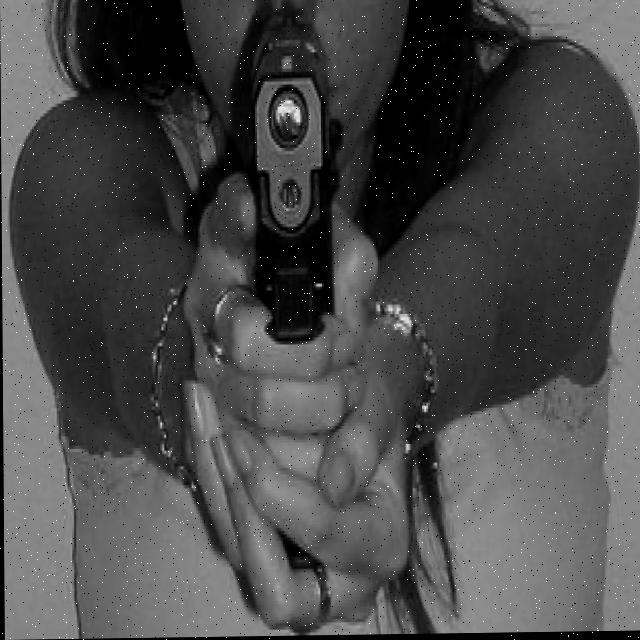pistol: (244, 6, 335, 349)
